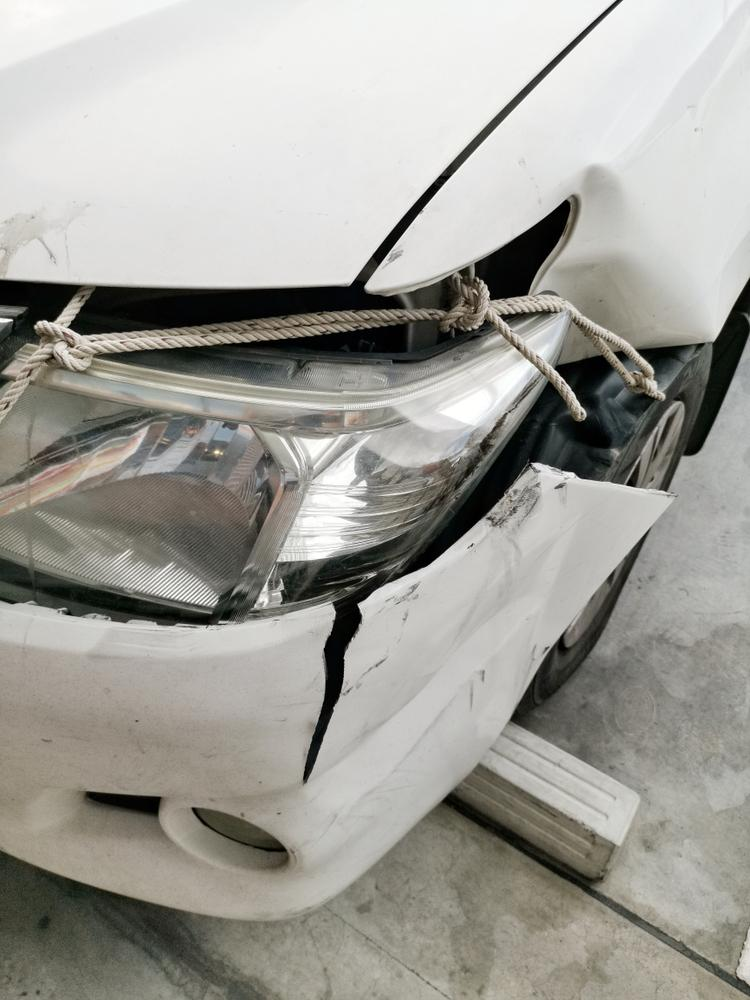crack: (300, 604, 366, 789)
dent: (543, 165, 693, 339)
scratch: (342, 579, 420, 701), (486, 465, 570, 530)
